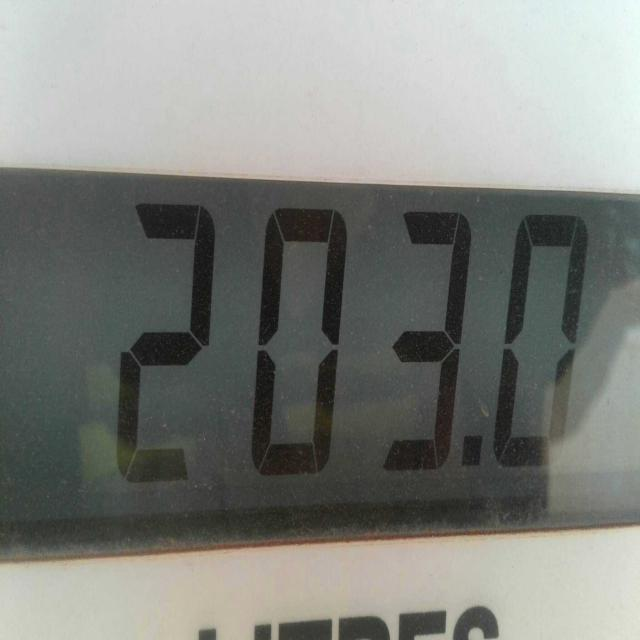.: (460, 438, 483, 474)
0: (255, 210, 344, 475), (497, 209, 586, 472)
2: (118, 210, 211, 481)
3: (392, 206, 469, 471)
